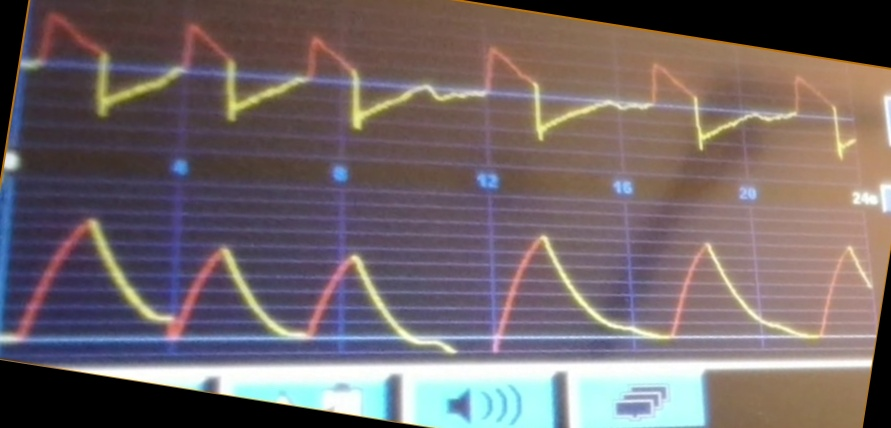Ineffective_effort Flow: (28, 10, 857, 160)
Ineffective_effort Volume: (10, 217, 868, 352)
